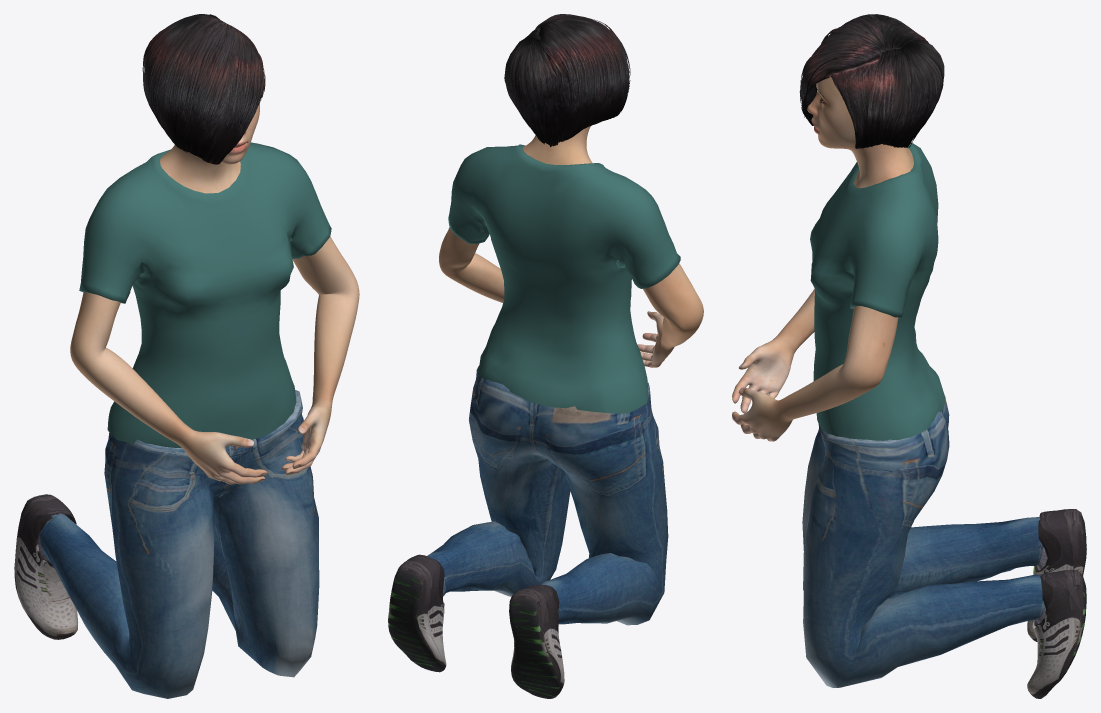
File: riley-kneeling.glb
3 views of the same model, side by side, from view 1: azimuth 30°, elevation 25°; view 2: azimuth 150°, elevation 25°; view 3: azimuth 270°, elevation 25° (orthographic). The views are drawn at different scales.
Visible parts, largest first — view 1: female_casualsuit01, Riley | anatomical body, bob01, shoes05; view 2: female_casualsuit01, bob01, shoes05, Riley | anatomical body; view 3: female_casualsuit01, Riley | anatomical body, bob01, shoes05.
Part boxes in pixels (box(x1,y1,x2,y2)): female_casualsuit01: box(39, 142, 331, 698); Riley | anatomical body: box(70, 102, 359, 484); bob01: box(142, 14, 265, 164); shoes05: box(14, 494, 78, 639); female_casualsuit01: box(427, 144, 680, 625); bob01: box(504, 14, 630, 146); shoes05: box(388, 554, 564, 698); Riley | anatomical body: box(439, 126, 703, 367); female_casualsuit01: box(802, 142, 1045, 687); Riley | anatomical body: box(732, 76, 913, 441); bob01: box(799, 14, 944, 148); shoes05: box(1027, 509, 1086, 698).
Bounding box in the file's own units: 0.569 × 1.29 × 0.6419.
Materials: 9 (8 with a texture image).
